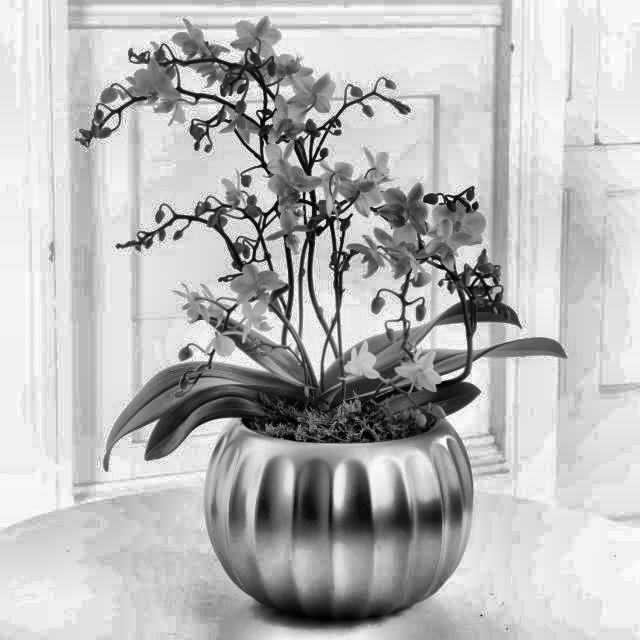plants: (84, 38, 580, 619)
